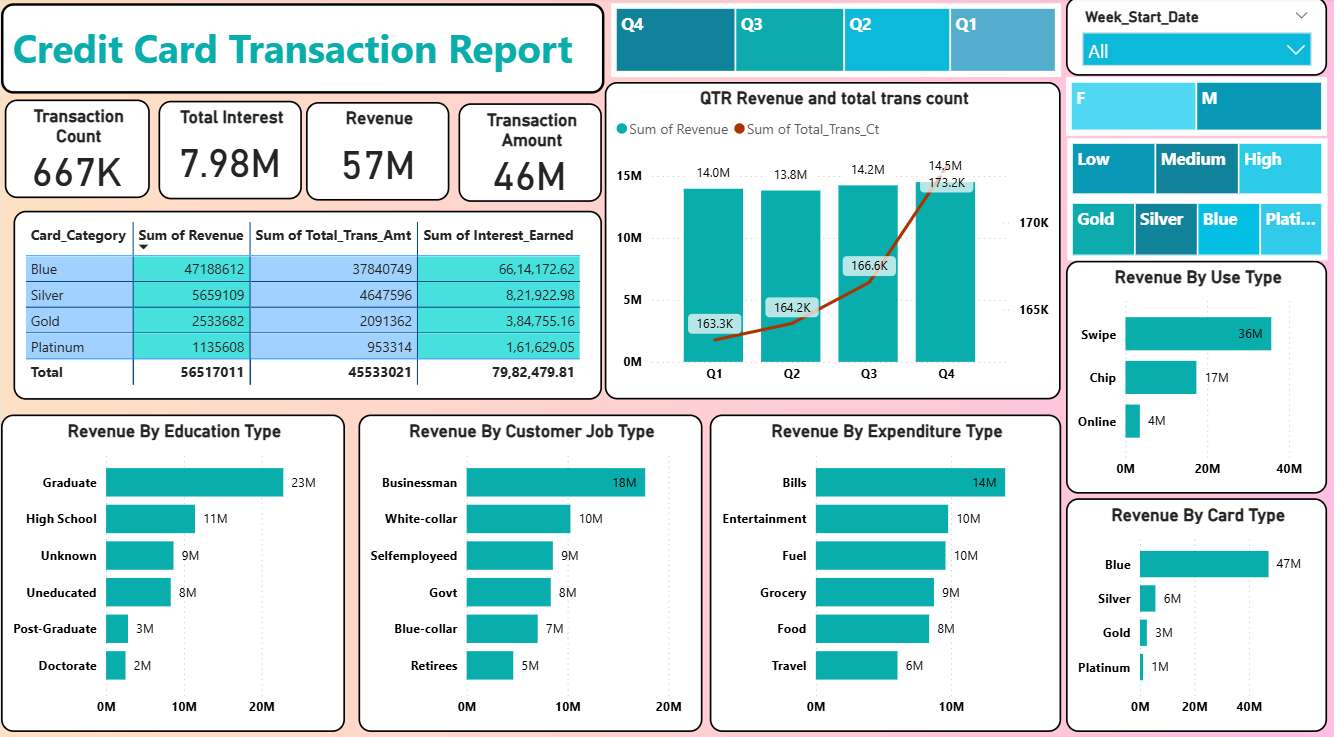

The dashboard page shown, as its layout file describes it:
{"tool":"powerbi","page":{"name":"CC_Transaction ","canvas":[1290,720],"ordinal":1},"visuals":[{"type":"textbox","box":[0,6,582.7,86.9],"z":0},{"type":"lineStackedColumnComboChart","title":"QTR Revenue and total trans count","fields":{"Category":["cc_detail.Qtr"],"Y":["Sum(cc_detail.Revenue)"],"Y2":["Sum(cc_detail.Total_Trans_Ct)"]},"box":[582.7,82,440.4,306.4],"z":1000},{"type":"barChart","title":" Revenue By Expenditure Type","fields":{"Category":["cc_detail.Exp_Type"],"Y":["Sum(cc_detail.Revenue)"]},"box":[684.1,403,339,306.4],"z":2000},{"type":"barChart","title":" Revenue By Education Type ","fields":{"Y":["Sum(cc_detail.Revenue)"],"Category":["cust_detail.Education_Level"]},"box":[0,403,331.8,306.4],"z":3000},{"type":"barChart","title":" Revenue By Customer  Job Type","fields":{"Y":["Sum(cc_detail.Revenue)"],"Category":["cust_detail.Customer_Job"]},"box":[345,403,331.8,306.4],"z":4000},{"type":"barChart","title":" Revenue By Card Type","fields":{"Y":["Sum(cc_detail.Revenue)"],"Category":["cc_detail.Card_Category"]},"box":[1027.9,483.8,252.1,225.6],"z":5000},{"type":"barChart","title":" Revenue By Use Type","fields":{"Y":["Sum(cc_detail.Revenue)"],"Category":["cc_detail.Use_Chip"]},"box":[1027.9,254.6,252.1,225],"z":6000},{"type":"tableEx","fields":{"Values":["cc_detail.Card_Category","Sum(cc_detail.Revenue)","Sum(cc_detail.Total_Trans_Amt)","Sum(cc_detail.Interest_Earned)"]},"box":[12.1,206.3,568.2,182.2],"z":7000},{"type":"card","title":"Revenue ","fields":{"Values":["Sum(cc_detail.Revenue)"]},"box":[294.4,101.3,138.7,95.3],"z":8000},{"type":"card","title":"Total Interest ","fields":{"Values":["Sum(cc_detail.Interest_Earned)"]},"box":[152,100.1,138.7,95.3],"z":9000},{"type":"card","title":"Transaction Amount ","fields":{"Values":["Sum(cc_detail.Total_Trans_Amt)"]},"box":[441.6,102.5,138.7,95.3],"z":10000},{"type":"card","title":"Transaction Count ","fields":{"Values":["Sum(cc_detail.Total_Trans_Ct)"]},"box":[3.6,98.9,139.9,95.3],"z":11000},{"type":"slicer","fields":{"Values":["cc_detail.Week_Start_Date"]},"box":[1027.9,0,252.1,76],"z":12000},{"type":"treemap","fields":{"Group":["cc_detail.Qtr"],"Values":["Avg(cc_detail.Client_Num)"]},"box":[588.7,6,434.3,71.2],"z":13000},{"type":"treemap","fields":{"Values":["Avg(cc_detail.Client_Num)"],"Group":["cc_detail.Card_Category"]},"box":[1029.1,194.2,250.9,60.3],"z":14000},{"type":"treemap","fields":{"Values":["Avg(cc_detail.Client_Num)"],"Group":["cust_detail.Gender"]},"box":[1027.9,77.2,252.1,56.7],"z":15000},{"type":"treemap","fields":{"Values":["Avg(cc_detail.Client_Num)"],"Group":["cust_detail.IncomeGroup"]},"box":[1029.1,136.3,250.9,59.1],"z":16000}]}

Visuals, with their boxes in screenshot pixels (x1, y1, x2, y2), scaled from the page's 1290x720 canvas onto the 1334x737 screenshot:
textbox: [0,6,603,95]
"QTR Revenue and total trans count" lineStackedColumnComboChart: [603,84,1058,398]
" Revenue By Expenditure Type" barChart: [707,413,1058,726]
" Revenue By Education Type " barChart: [0,413,343,726]
" Revenue By Customer  Job Type" barChart: [357,413,700,726]
" Revenue By Card Type" barChart: [1063,495,1324,726]
" Revenue By Use Type" barChart: [1063,261,1324,491]
tableEx - cc_detail.Card_Category x Sum(cc_detail.Revenue): [13,211,600,398]
"Revenue " card: [304,104,448,201]
"Total Interest " card: [157,102,301,200]
"Transaction Amount " card: [457,105,600,202]
"Transaction Count " card: [4,101,148,199]
slicer - cc_detail.Week_Start_Date: [1063,0,1324,78]
treemap - cc_detail.Qtr x Avg(cc_detail.Client_Num): [609,6,1058,79]
treemap - Avg(cc_detail.Client_Num) x cc_detail.Card_Category: [1064,199,1324,261]
treemap - Avg(cc_detail.Client_Num) x cust_detail.Gender: [1063,79,1324,137]
treemap - Avg(cc_detail.Client_Num) x cust_detail.IncomeGroup: [1064,140,1324,200]
